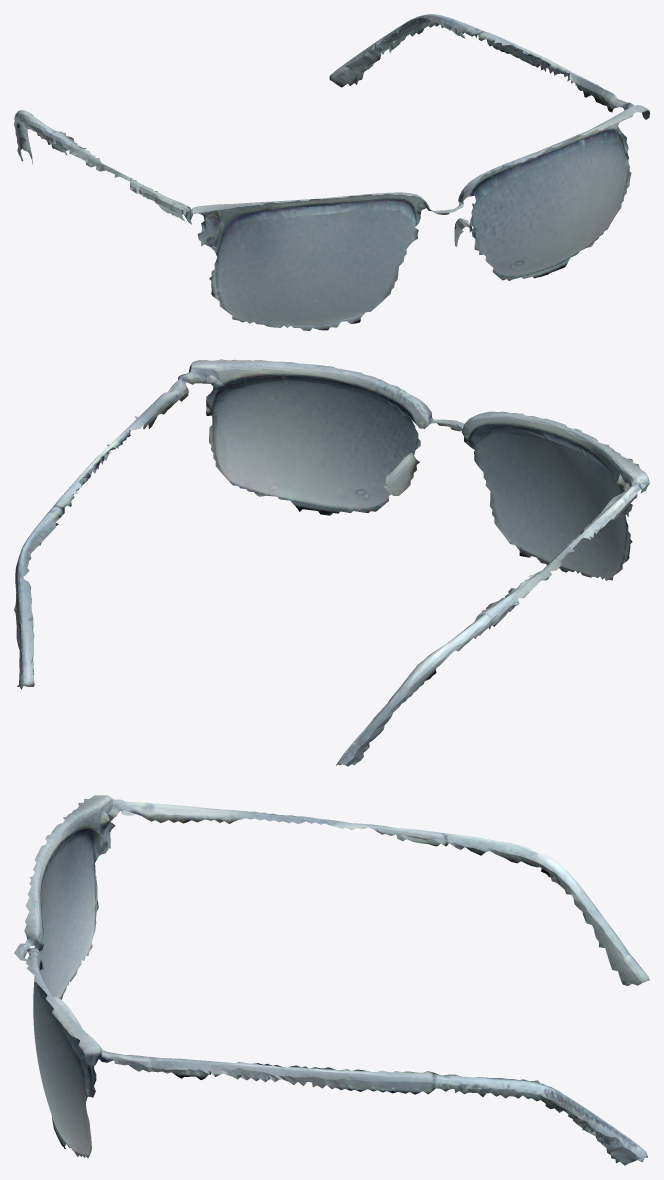
The model's file is scan_align.obj.
3 renders of one model, top to bottom at view 1: azimuth 30°, elevation 25°; view 2: azimuth 150°, elevation 25°; view 3: azimuth 270°, elevation 25°, orthographic. The views are drawn at different scales.
Size of the model in its own units: 0.1446 by 0.0419 by 0.1494.
Materials: 1 (1 with a texture image).
